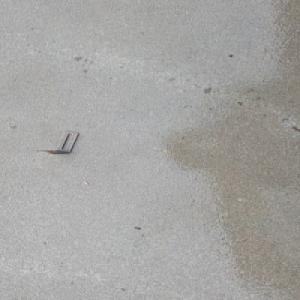MetalPart: (35, 130, 79, 154)
